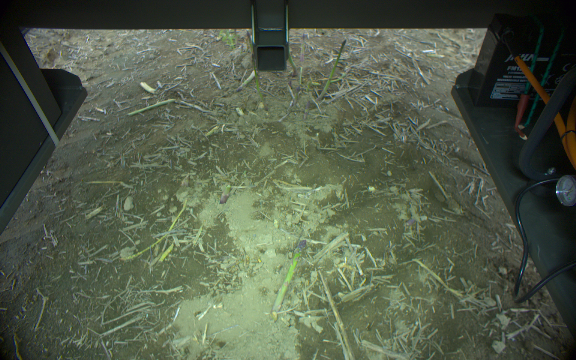aspa: (272, 236, 308, 314), (318, 39, 348, 100), (249, 52, 264, 107), (219, 178, 231, 207), (288, 51, 299, 76), (245, 31, 253, 50)
